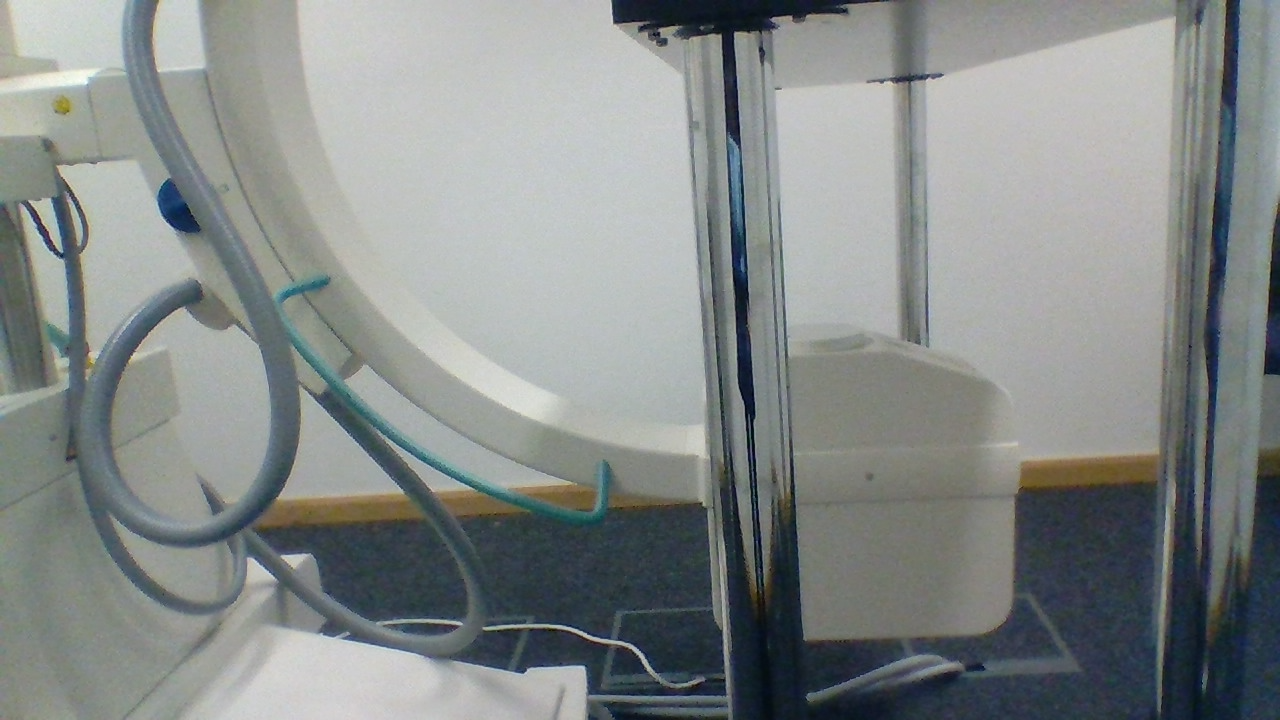carmDOWN: (699, 324, 1021, 446)
carmLOCK: (158, 174, 216, 235)
